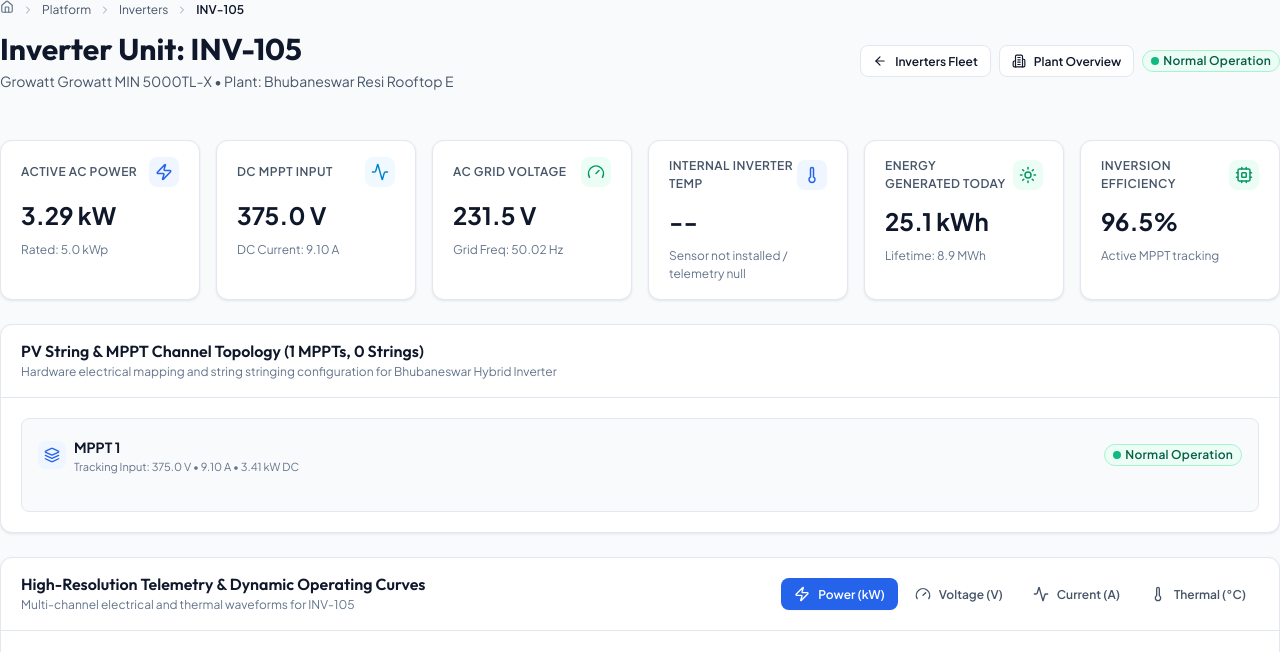
Test: InverterDetailPage Component Suite › handles missing temperature reading without coercing to zero (INV-105)
Check: the heading "Inverter Unit: INV-105" is shown, box [0,30,302,68]
Check: the text "Sensor not installed / telemetry null" is shown, box [669,248,788,280]
// Switch to thermal tab in curves
What coordinates should you click on to do the following:
click the button "Thermal (°C)"
I would click on:
 (1198, 594)
Its box is [1137,578,1259,610].
(page scrolled)
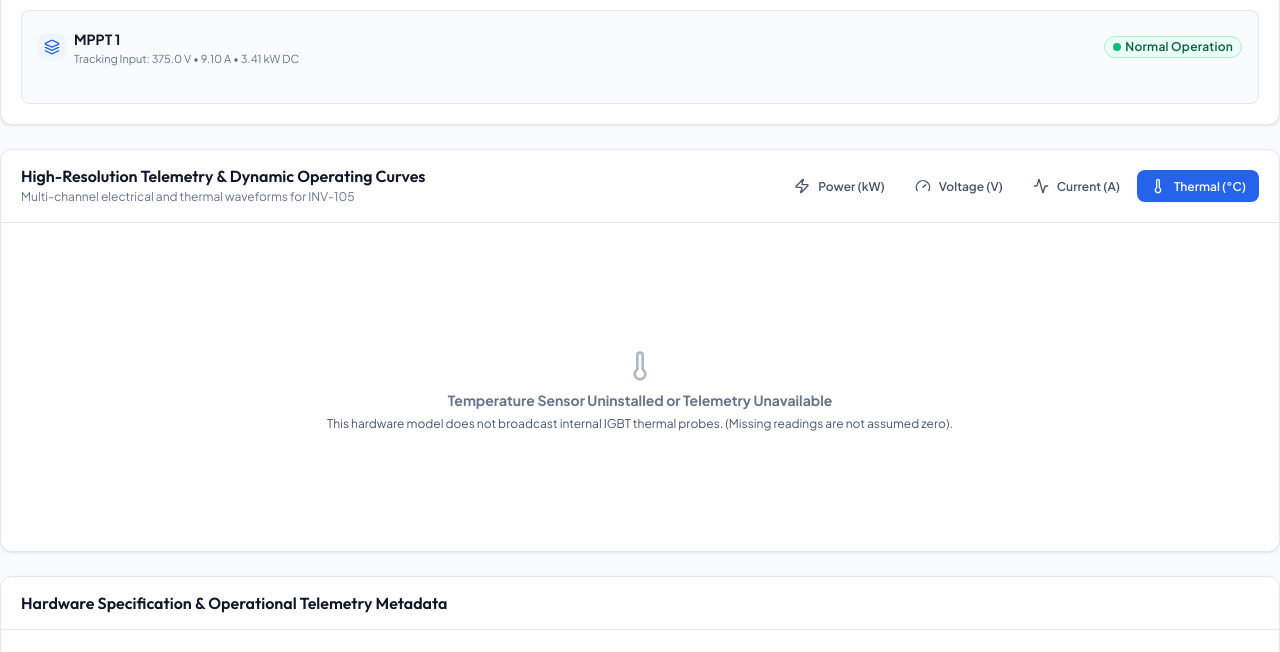
Check: the text "Temperature Sensor Uninstalled or Telemetry Unavailable" is shown, box [448,390,832,410]
